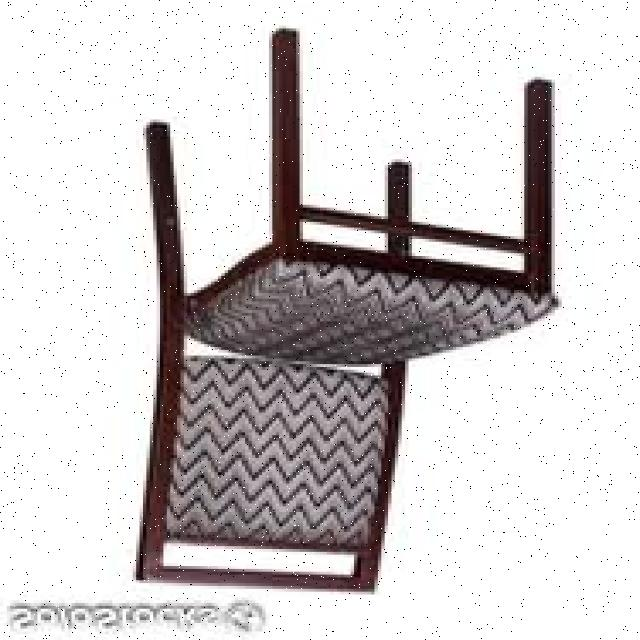bottle: (130, 15, 566, 599)
